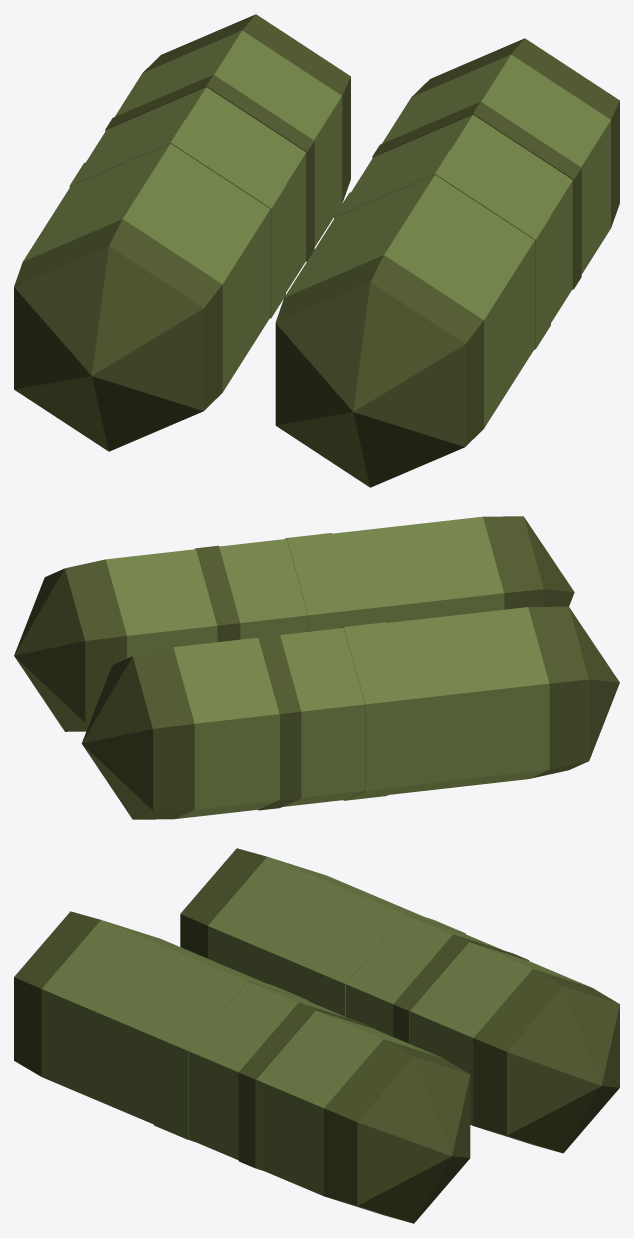
The model's file is ce_ammo2_smaw_thermo_b.obj.
3 renders of one model, top to bottom at view 1: azimuth 30°, elevation 25°; view 2: azimuth 150°, elevation 25°; view 3: azimuth 270°, elevation 25°, orthographic. The views are drawn at different scales.
Visible parts, largest first — view 1: ce_ammo2_smaw_thermo_b_9, ce_ammo2_smaw_thermo_b_0, ce_ammo2_smaw_thermo_b_11, ce_ammo2_smaw_thermo_b_2, ce_ammo2_smaw_thermo_b_15, ce_ammo2_smaw_thermo_b_6, ce_ammo2_smaw_thermo_b_13, ce_ammo2_smaw_thermo_b_4, ce_ammo2_smaw_thermo_b_1, ce_ammo2_smaw_thermo_b_10, ce_ammo2_smaw_thermo_b_12, ce_ammo2_smaw_thermo_b_3 (+4 smaller); view 2: ce_ammo2_smaw_thermo_b_2, ce_ammo2_smaw_thermo_b_6, ce_ammo2_smaw_thermo_b_11, ce_ammo2_smaw_thermo_b_4, ce_ammo2_smaw_thermo_b_15, ce_ammo2_smaw_thermo_b_3, ce_ammo2_smaw_thermo_b_17, ce_ammo2_smaw_thermo_b_8, ce_ammo2_smaw_thermo_b_7, ce_ammo2_smaw_thermo_b_1, ce_ammo2_smaw_thermo_b_13, ce_ammo2_smaw_thermo_b_16 (+6 smaller); view 3: ce_ammo2_smaw_thermo_b_11, ce_ammo2_smaw_thermo_b_17, ce_ammo2_smaw_thermo_b_8, ce_ammo2_smaw_thermo_b_2, ce_ammo2_smaw_thermo_b_15, ce_ammo2_smaw_thermo_b_13, ce_ammo2_smaw_thermo_b_6, ce_ammo2_smaw_thermo_b_12, ce_ammo2_smaw_thermo_b_7, ce_ammo2_smaw_thermo_b_16, ce_ammo2_smaw_thermo_b_4, ce_ammo2_smaw_thermo_b_10 (+4 smaller).
Part boxes in pixels (<box>): ce_ammo2_smaw_thermo_b_9: <box>275,282,465,487</box>; ce_ammo2_smaw_thermo_b_0: <box>14,246,203,451</box>; ce_ammo2_smaw_thermo_b_11: <box>284,175,534,428</box>; ce_ammo2_smaw_thermo_b_2: <box>23,143,270,392</box>; ce_ammo2_smaw_thermo_b_15: <box>382,54,610,274</box>; ce_ammo2_smaw_thermo_b_6: <box>115,30,342,246</box>; ce_ammo2_smaw_thermo_b_13: <box>351,115,572,322</box>; ce_ammo2_smaw_thermo_b_4: <box>86,87,306,292</box>; ce_ammo2_smaw_thermo_b_1: <box>14,219,222,410</box>; ce_ammo2_smaw_thermo_b_10: <box>275,255,483,446</box>; ce_ammo2_smaw_thermo_b_12: <box>334,150,550,349</box>; ce_ammo2_smaw_thermo_b_3: <box>69,120,285,318</box>; ce_ammo2_smaw_thermo_b_2: <box>386,607,549,794</box>; ce_ammo2_smaw_thermo_b_6: <box>173,637,279,819</box>; ce_ammo2_smaw_thermo_b_11: <box>332,516,504,625</box>; ce_ammo2_smaw_thermo_b_4: <box>280,628,364,806</box>; ce_ammo2_smaw_thermo_b_15: <box>106,549,217,658</box>; ce_ammo2_smaw_thermo_b_3: <box>342,622,407,800</box>; ce_ammo2_smaw_thermo_b_17: <box>14,568,85,731</box>; ce_ammo2_smaw_thermo_b_8: <box>81,656,152,819</box>; ce_ammo2_smaw_thermo_b_7: <box>132,647,194,819</box>; ce_ammo2_smaw_thermo_b_1: <box>528,606,589,778</box>; ce_ammo2_smaw_thermo_b_13: <box>219,539,307,639</box>; ce_ammo2_smaw_thermo_b_16: <box>65,559,126,731</box>; ce_ammo2_smaw_thermo_b_11: <box>41,920,263,1124</box>; ce_ammo2_smaw_thermo_b_17: <box>357,1056,470,1223</box>; ce_ammo2_smaw_thermo_b_8: <box>507,986,619,1153</box>; ce_ammo2_smaw_thermo_b_2: <box>208,856,421,1002</box>; ce_ammo2_smaw_thermo_b_15: <box>256,1010,441,1196</box>; ce_ammo2_smaw_thermo_b_13: <box>188,982,348,1159</box>; ce_ammo2_smaw_thermo_b_6: <box>409,942,590,1125</box>; ce_ammo2_smaw_thermo_b_12: <box>154,967,307,1141</box>; ce_ammo2_smaw_thermo_b_7: <box>473,969,618,1151</box>; ce_ammo2_smaw_thermo_b_16: <box>324,1039,469,1222</box>; ce_ammo2_smaw_thermo_b_4: <box>346,915,501,1036</box>; ce_ammo2_smaw_thermo_b_10: <box>14,911,100,1076</box>.
Size of the model in its own units: 0.5614 by 0.1818 by 0.5614.
